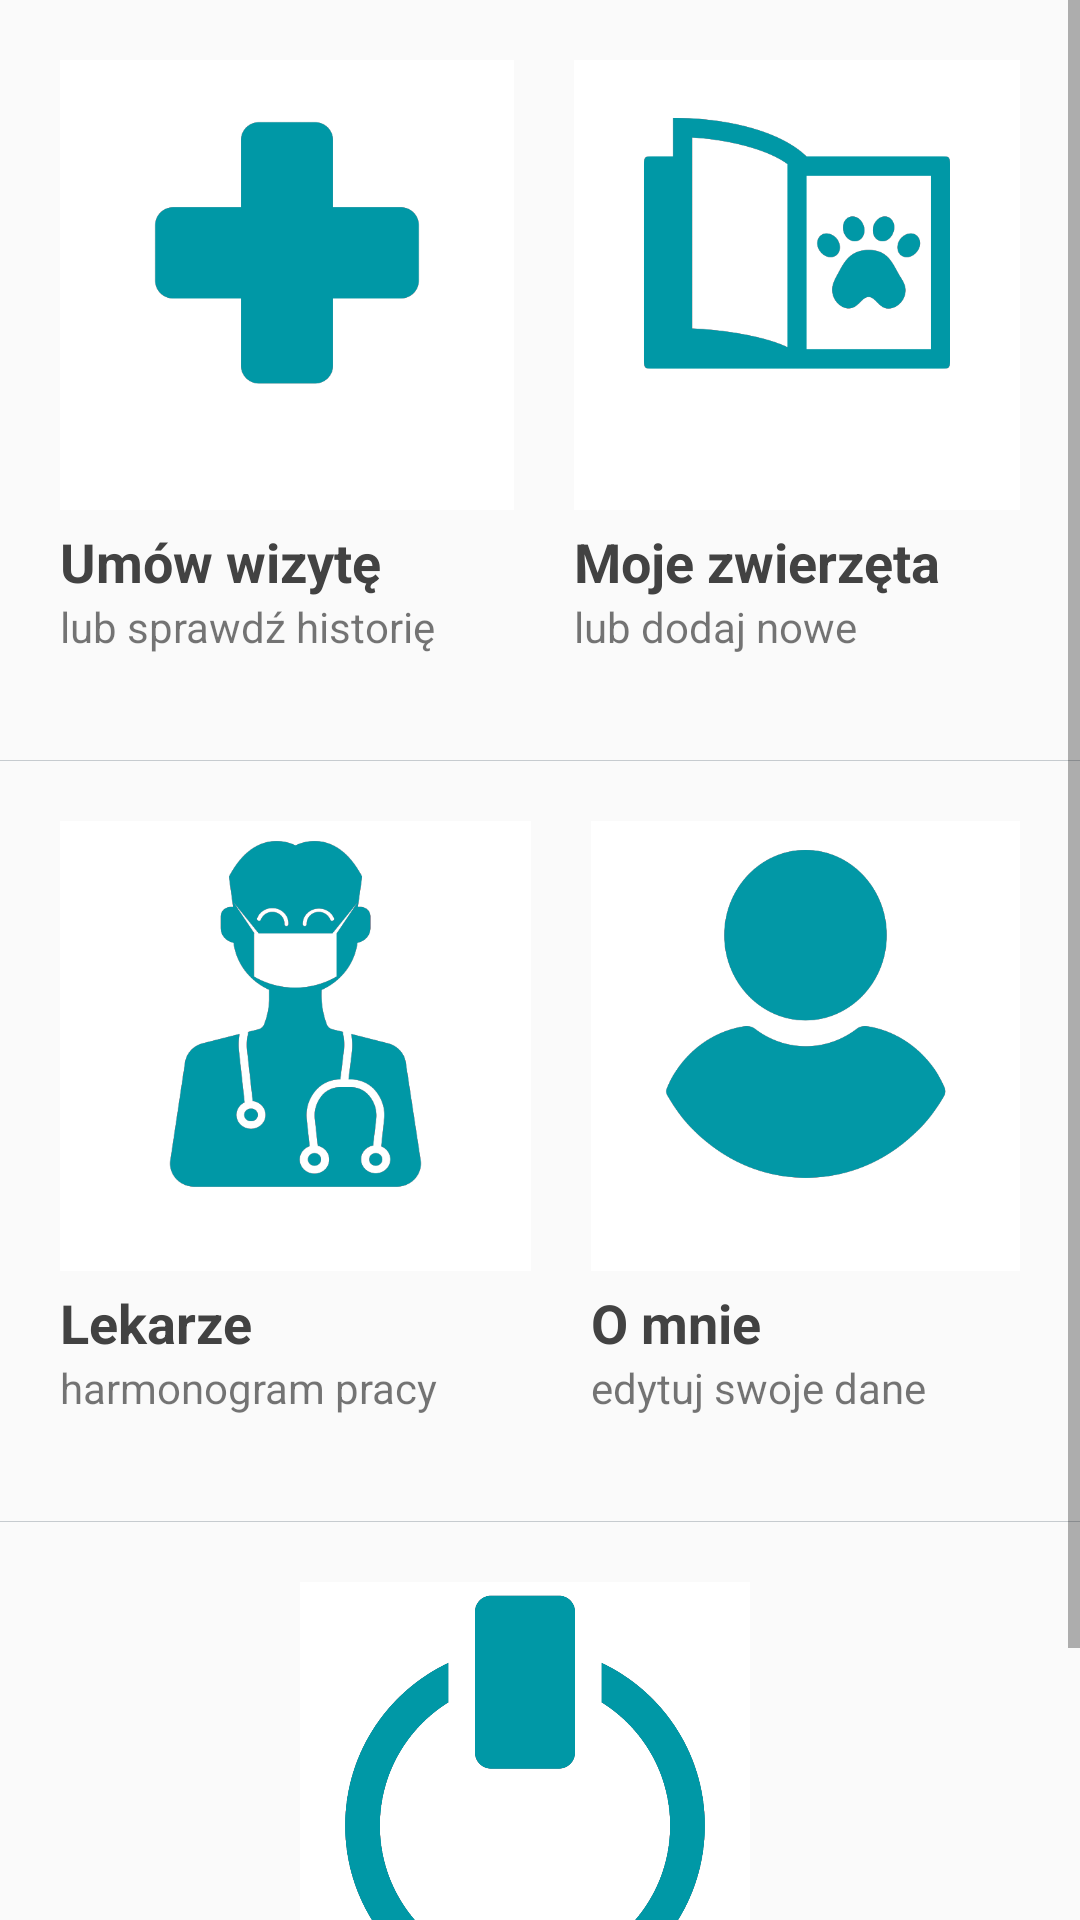

Icon click points for this 1080*1920 phone screenshot, format point (x, y):
doctor io: point (295, 1014)
pet io: point (797, 243)
treat io: point (287, 253)
